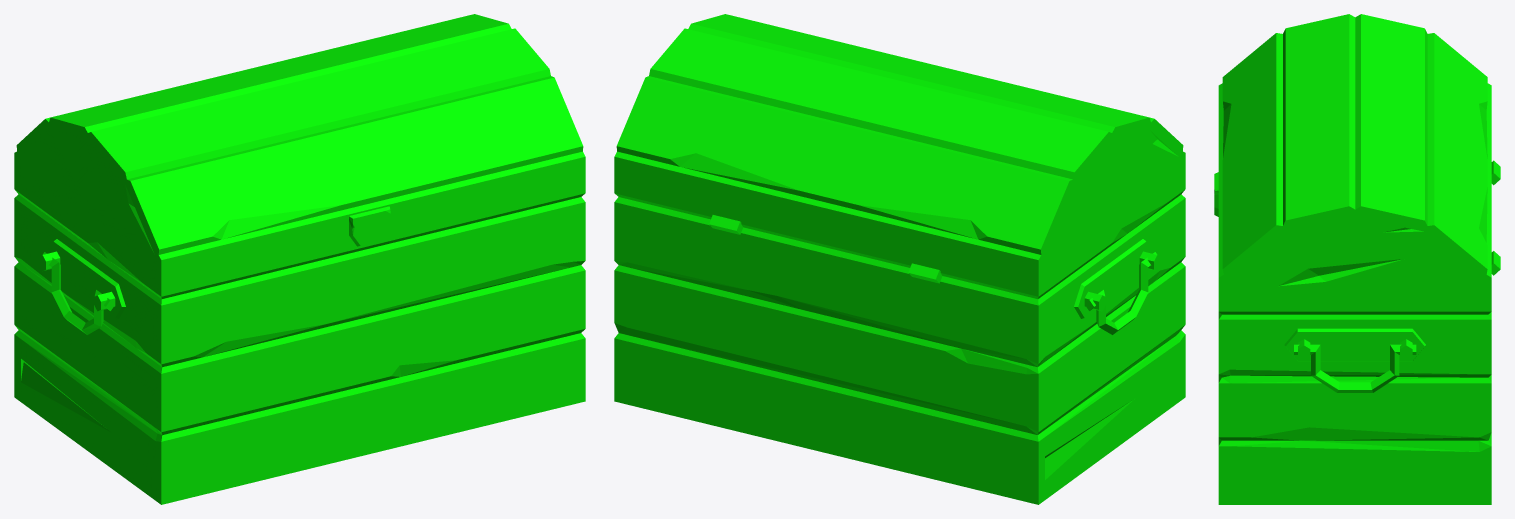
File: SM_Chest_Wooden_Round_Big_Fantasy.fbx
The picture shows the model from 3 angles, left to right: view 1: azimuth 30°, elevation 25°; view 2: azimuth 150°, elevation 25°; view 3: azimuth 270°, elevation 25°; orthographic projection. The views are drawn at different scales.
Parts seen in each view (by area): view 1: chest-wooden-round-big-base-fantasy, chest-wooden-round-big-lid-fantasy; view 2: chest-wooden-round-big-base-fantasy, chest-wooden-round-big-lid-fantasy; view 3: chest-wooden-round-big-lid-fantasy, chest-wooden-round-big-base-fantasy.
Part boxes in pixels (x1,y1,x2,y2): chest-wooden-round-big-base-fantasy: [14, 194, 585, 504]; chest-wooden-round-big-lid-fantasy: [14, 14, 585, 298]; chest-wooden-round-big-base-fantasy: [614, 194, 1185, 504]; chest-wooden-round-big-lid-fantasy: [614, 14, 1185, 298]; chest-wooden-round-big-lid-fantasy: [1214, 14, 1500, 314]; chest-wooden-round-big-base-fantasy: [1218, 312, 1491, 504].
Size of the model in its own units: 1.54 by 1.03 by 0.8939.
